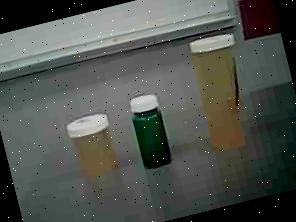Bottle A: (182, 26, 258, 160)
Bottle B: (60, 103, 126, 184)
Bottle C: (124, 87, 179, 177)
